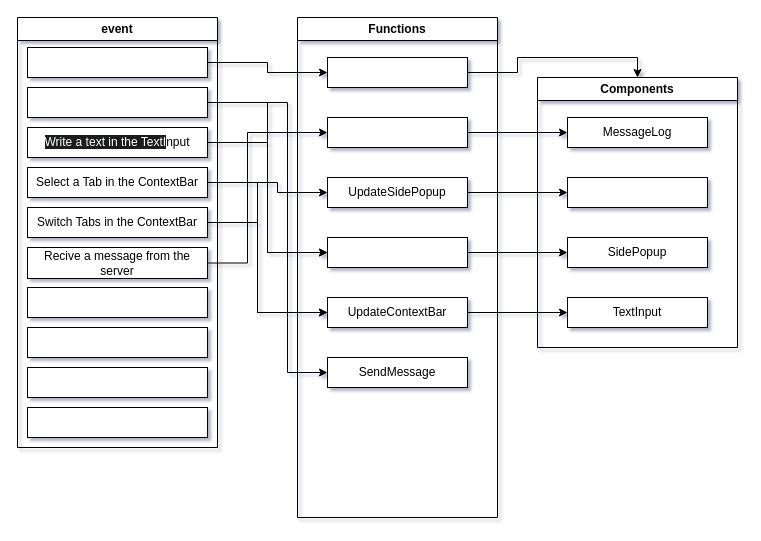
Image size: 761x541. Some labels were removed from this diagram. The centre of each missing label's shape, as x and y in pixels:
ContextBar: the point at 637,192
DrawScreen: the point at 397,72
Send a text from the Textinput: the point at 117,102
Start application: the point at 117,62
UpdateMessageLog: the point at 397,132
UpdateTextInput: the point at 397,252
